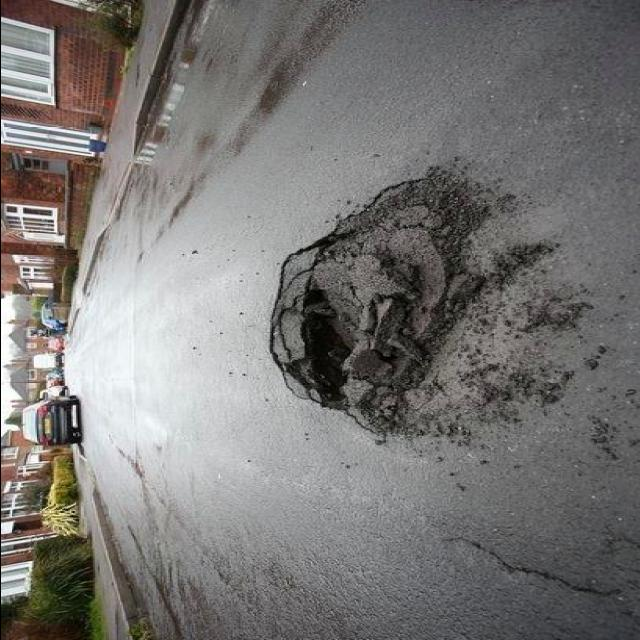jalan retak: (407, 507, 640, 617)
lubang: (262, 176, 552, 440)
